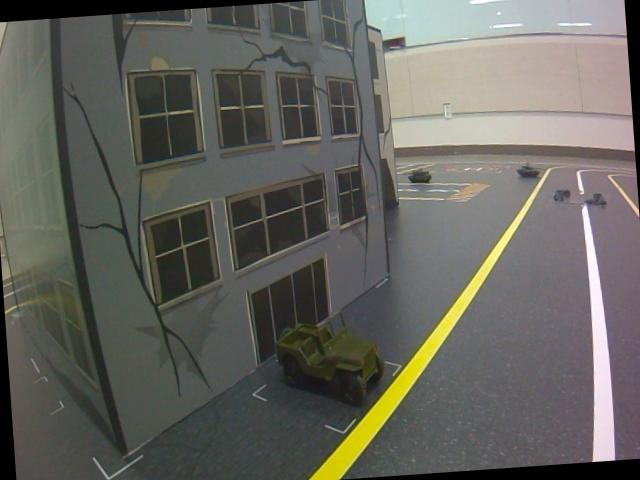Car: (269, 303, 389, 411)
Tank: (406, 166, 436, 184), (517, 160, 540, 179)
